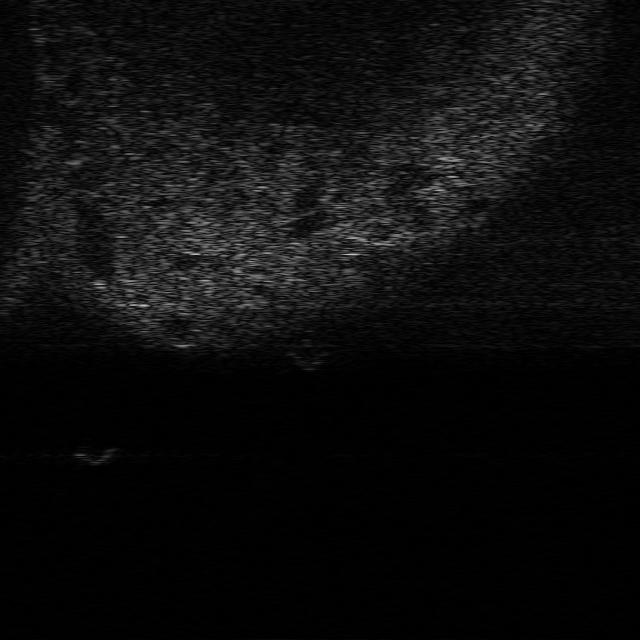ball: (286, 340, 329, 369)
cube: (74, 444, 116, 465)
